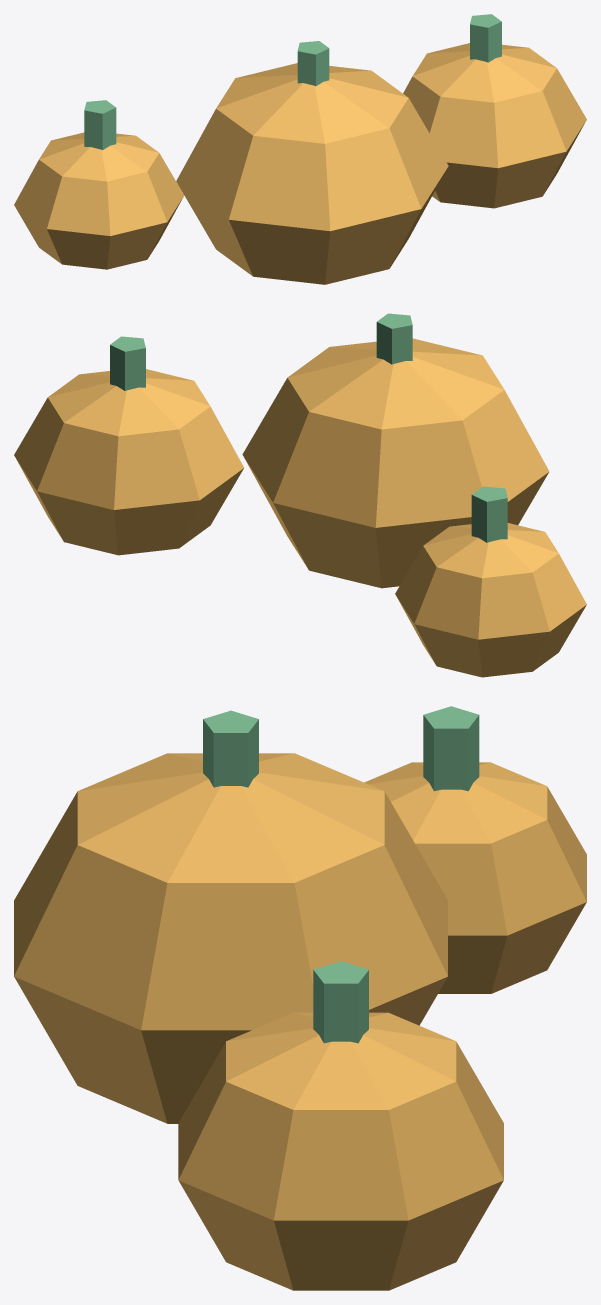
The model's file is pumpkin_patch.glb.
3 views of the same model, one above another, from view 1: azimuth 30°, elevation 25°; view 2: azimuth 150°, elevation 25°; view 3: azimuth 270°, elevation 25° (orthographic). The views are drawn at different scales.
Parts seen in each view (by area): view 1: Player; view 2: Player; view 3: Player.
Boxes of the visible parts, x1=… form: Player: x1=14, y1=14, x2=586, y2=284; Player: x1=14, y1=313, x2=586, y2=677; Player: x1=14, y1=706, x2=586, y2=1290.
Size of the model in its own units: 1.36 by 0.58 by 0.7804.
